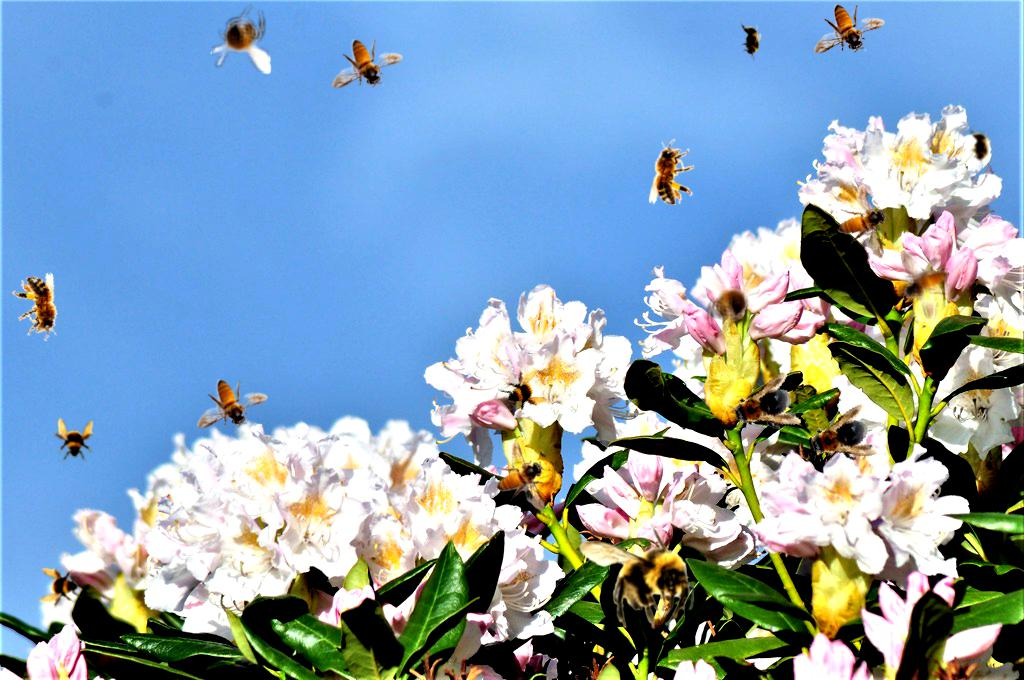Bee: (579, 522, 694, 629), (722, 372, 804, 444), (799, 403, 881, 475), (8, 270, 70, 347), (834, 181, 894, 260), (210, 4, 271, 74), (701, 266, 762, 336), (493, 361, 553, 421), (332, 39, 403, 89), (814, 4, 885, 54), (900, 250, 950, 321), (197, 379, 268, 429), (496, 440, 546, 511), (649, 139, 694, 205), (51, 418, 95, 462), (39, 566, 83, 610), (740, 21, 762, 61), (969, 127, 991, 167)
